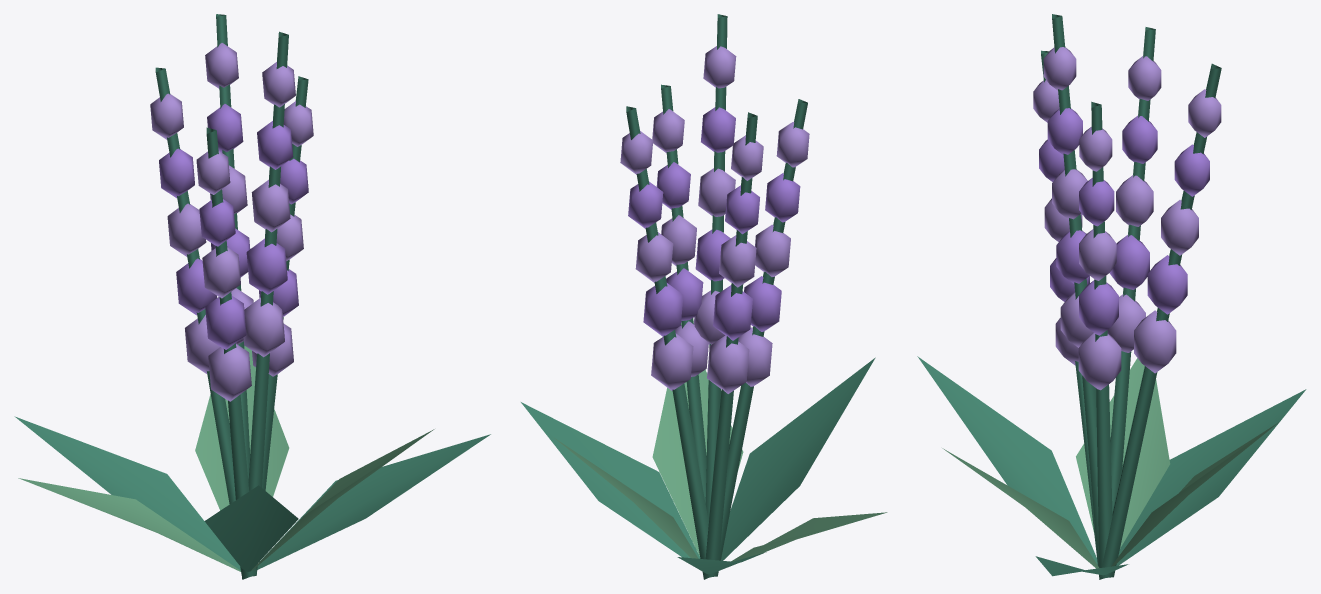
Rendered from lavender.glb.
3 renders of one model, left to right at view 1: azimuth 30°, elevation 25°; view 2: azimuth 150°, elevation 25°; view 3: azimuth 270°, elevation 25°, orthographic. The views are drawn at different scales.
Parts seen in each view (by area): view 1: lavender; view 2: lavender; view 3: lavender.
Part boxes in pixels (x1,y1,x2,y2): lavender: [14, 14, 490, 579]; lavender: [521, 14, 887, 579]; lavender: [917, 14, 1306, 579].
Size of what is drawn, in the model's own units: 0.4809 by 0.6 by 0.3739.
